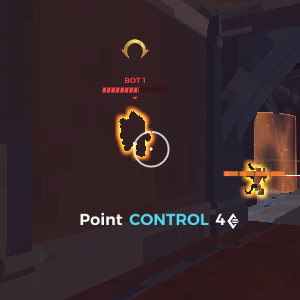model: (115, 107, 153, 163)
